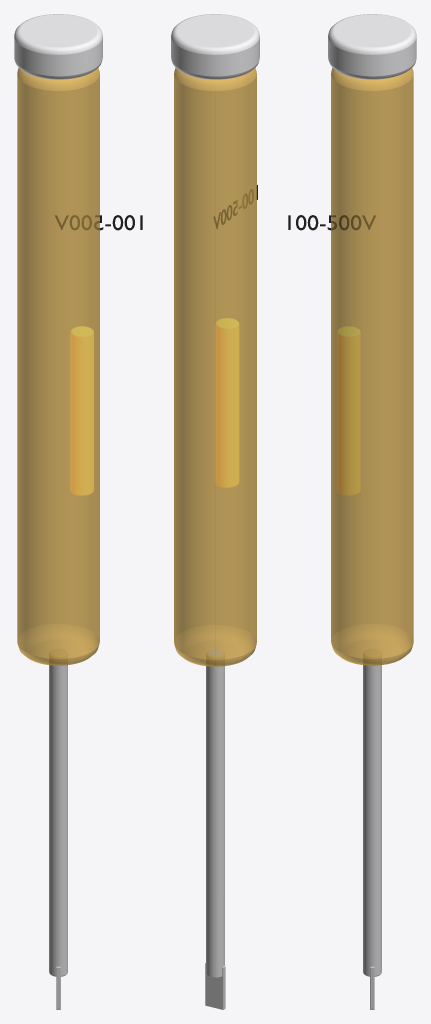
The model's file is tester.glb.
The picture shows the model from 3 angles, left to right: view 1: azimuth 90°, elevation 25°; view 2: azimuth 150°, elevation 25°; view 3: azimuth 270°, elevation 25°; orthographic projection.
Parts seen in each view (by area): view 1: body, blade; view 2: body, blade; view 3: body, blade.
Boxes of the visible parts, x1,y1,x2,y2 form: body: (14, 14, 142, 665); blade: (49, 649, 67, 1009); body: (171, 14, 259, 666); blade: (205, 650, 225, 1009); body: (288, 14, 416, 665); blade: (363, 653, 381, 1009).
Size of the model in its own units: 0.015 by 0.182 by 0.0217.
